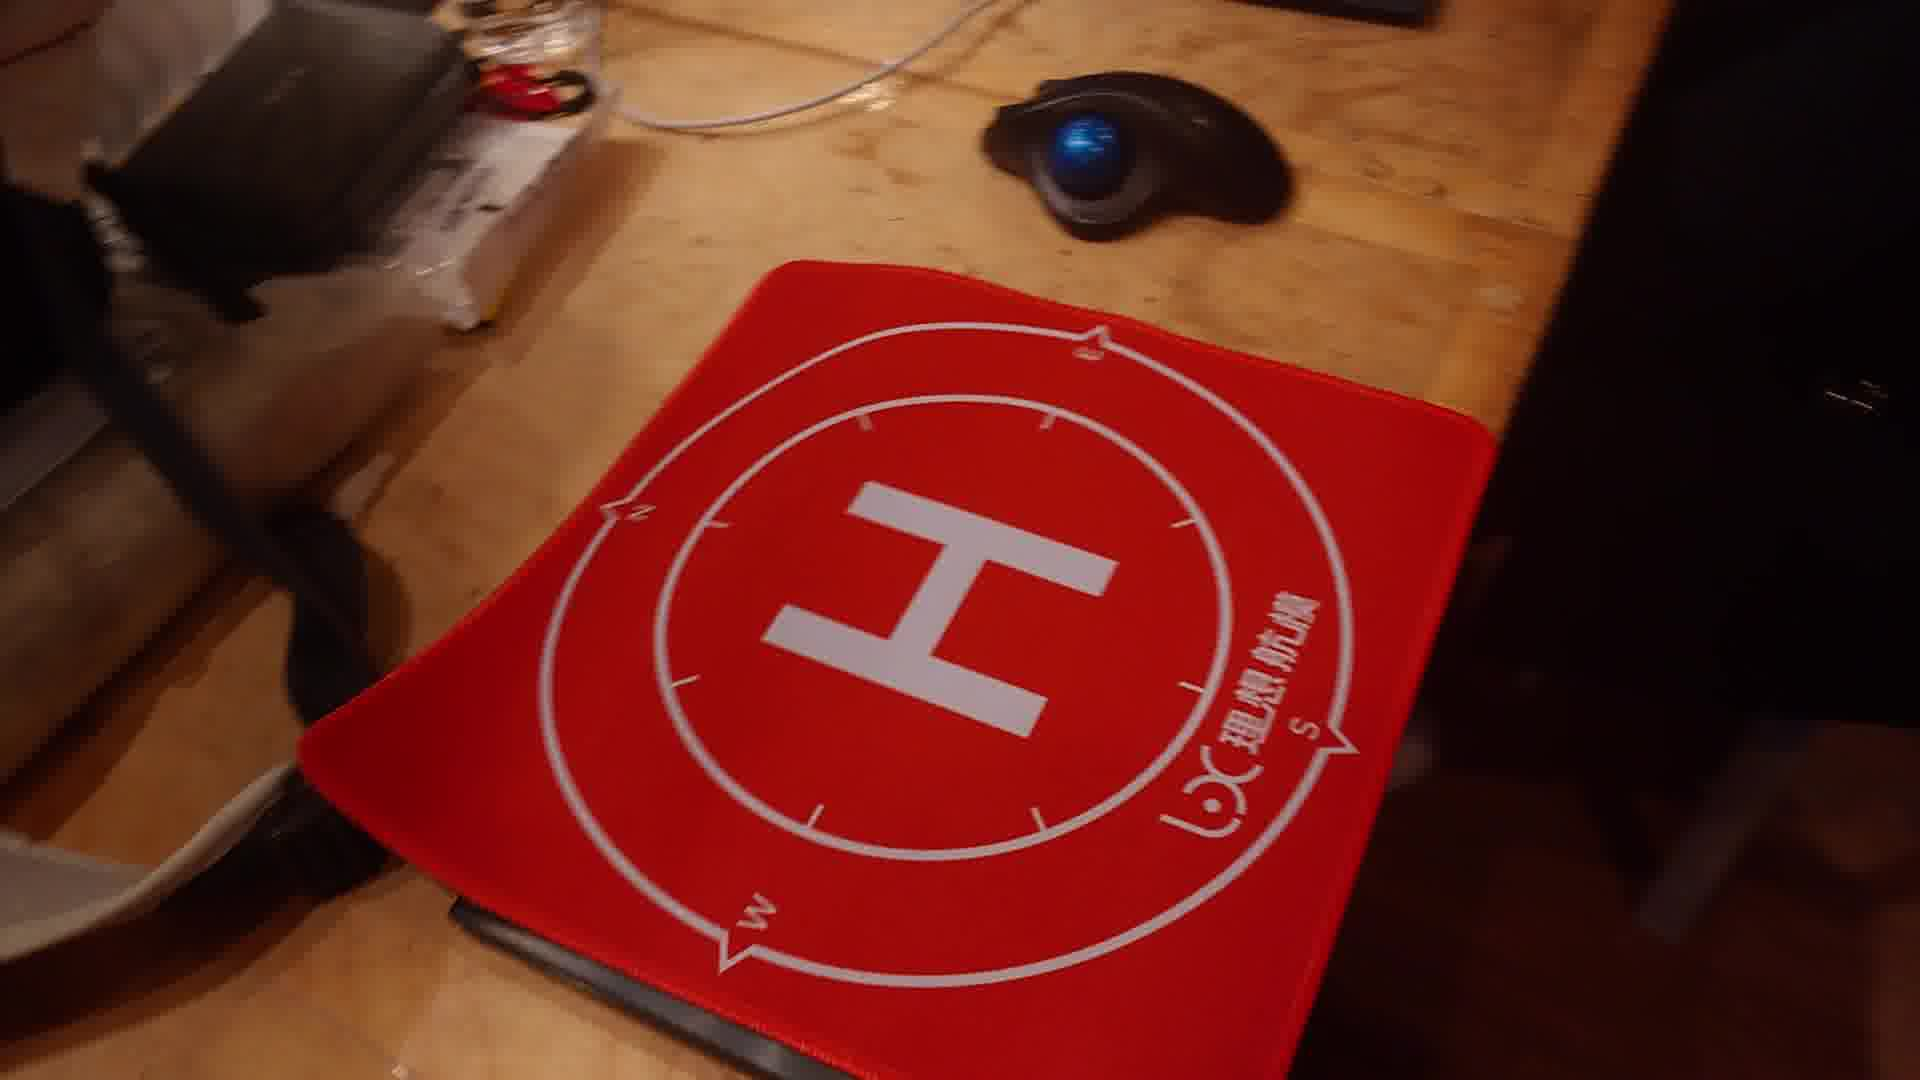H: (757, 481, 1118, 738)
